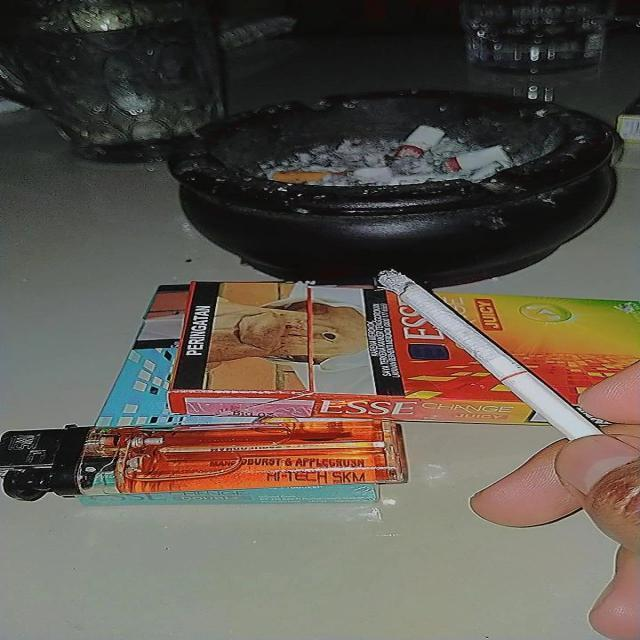rokok: (375, 266, 629, 438)
